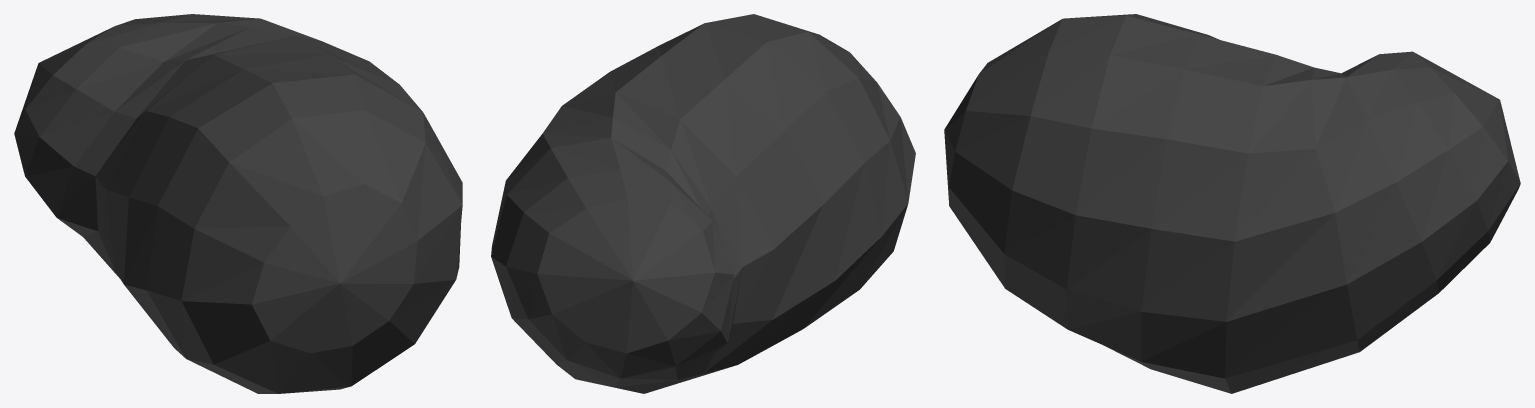
The model's file is Kidney_L.glb.
3 views of the same model, side by side, from view 1: azimuth 30°, elevation 25°; view 2: azimuth 150°, elevation 25°; view 3: azimuth 270°, elevation 25° (orthographic). The views are drawn at different scales.
Parts seen in each view (by area): view 1: Kidney_L; view 2: Kidney_L; view 3: Kidney_L.
Boxes of the visible parts, x1=… form: Kidney_L: x1=14, y1=14, x2=462, y2=393; Kidney_L: x1=491, y1=14, x2=915, y2=393; Kidney_L: x1=944, y1=14, x2=1520, y2=393.
Size of the model in its own units: 38.15 by 37.37 by 59.52.
Materials: 1 (1 with a texture image).
